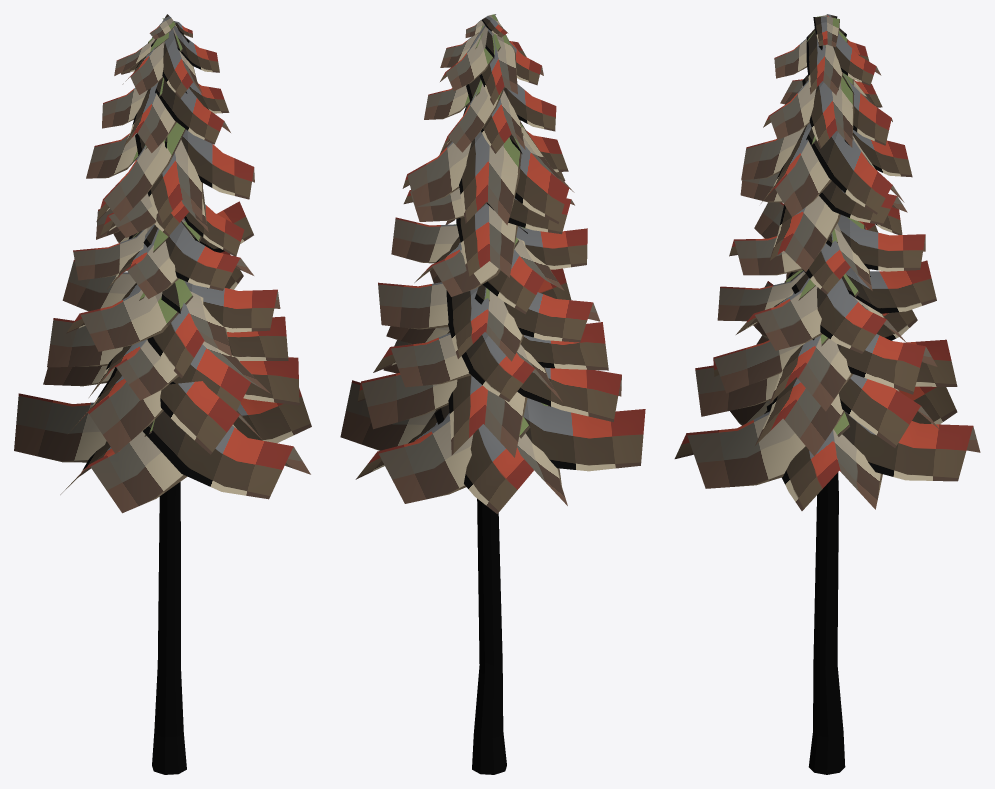
File: SM_Tree_Pine_Large_02_LOD_01.fbx
3 renders of one model, left to right at view 1: azimuth 30°, elevation 25°; view 2: azimuth 150°, elevation 25°; view 3: azimuth 270°, elevation 25°, orthographic.
Parts seen in each view (by area): view 1: SM_Tree_Pine_Large_02_LOD_01; view 2: SM_Tree_Pine_Large_02_LOD_01; view 3: SM_Tree_Pine_Large_02_LOD_01.
Boxes of the visible parts, x1,y1,x2,y2 form: SM_Tree_Pine_Large_02_LOD_01: (14,14,311,774); SM_Tree_Pine_Large_02_LOD_01: (340,14,645,774); SM_Tree_Pine_Large_02_LOD_01: (674,14,980,774).
Size of the model in its own units: 314 by 859 by 317.
